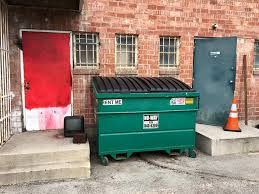Dumpster: (88, 74, 205, 171)
